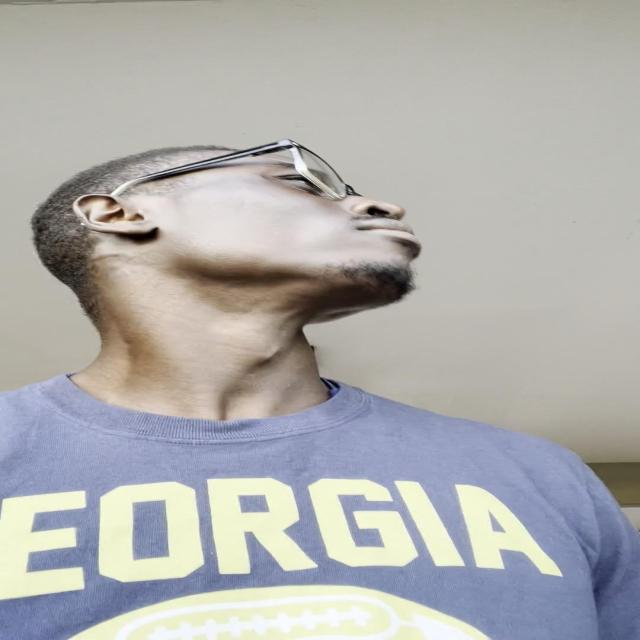NO-Mask: (58, 140, 450, 341)
